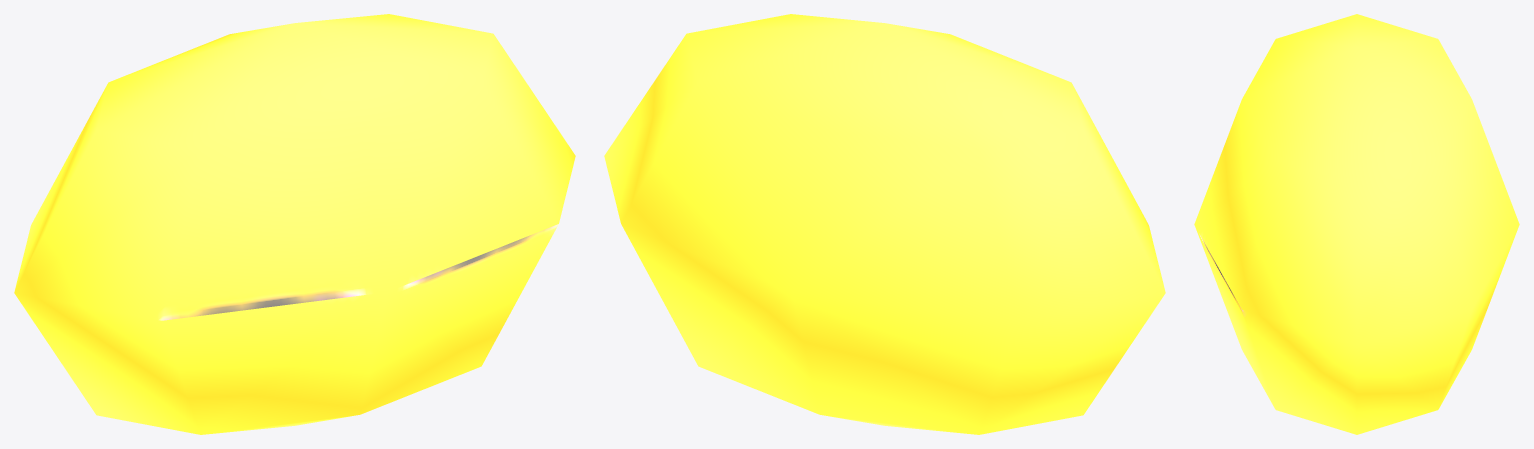
3 renders of one model, left to right at view 1: azimuth 30°, elevation 25°; view 2: azimuth 150°, elevation 25°; view 3: azimuth 270°, elevation 25°, orthographic. The views are drawn at different scales.
Visible parts, largest first — view 1: Sphere161_Material_0_0; view 2: Sphere161_Material_0_0; view 3: Sphere161_Material_0_0.
Part boxes in pixels (box(x1,y1,x2,y2)): Sphere161_Material_0_0: box(14, 14, 575, 434); Sphere161_Material_0_0: box(604, 14, 1165, 434); Sphere161_Material_0_0: box(1194, 14, 1519, 434).
Bounding box in the file's own units: 0.0298 × 0.0204 × 0.017.
1 material, 1 textured.
